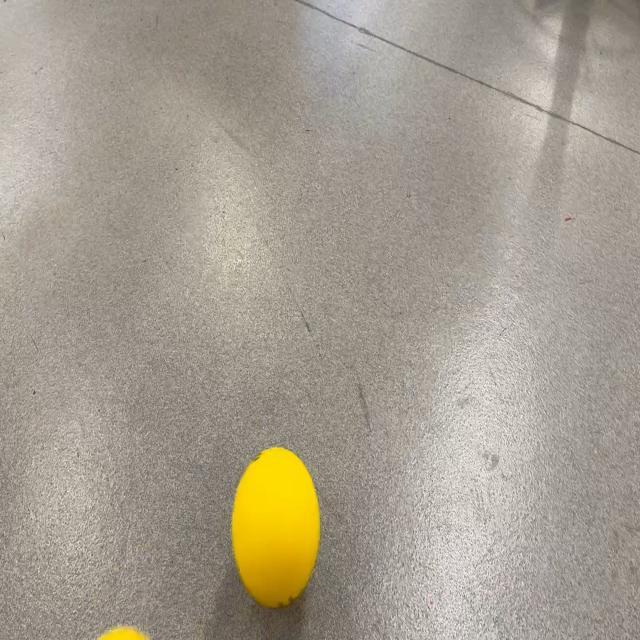Fuel: (232, 446, 320, 608)
